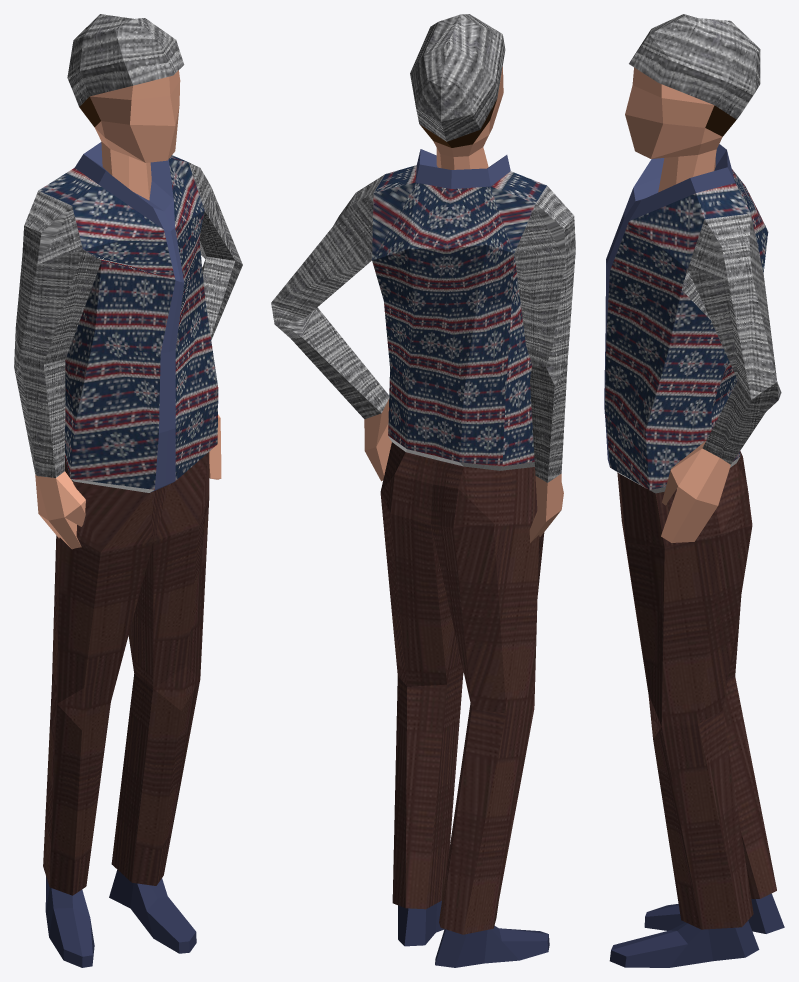
File: AutumnManB.010.glb
The picture shows the model from 3 angles, left to right: view 1: azimuth 30°, elevation 25°; view 2: azimuth 150°, elevation 25°; view 3: azimuth 270°, elevation 25°; orthographic projection. The views are drawn at different scales.
Parts seen in each view (by area): view 1: AutumnManB.010; view 2: AutumnManB.010; view 3: AutumnManB.010.
Part boxes in pixels (bbox=[...]): AutumnManB.010: bbox=[14, 14, 242, 967]; AutumnManB.010: bbox=[271, 14, 575, 967]; AutumnManB.010: bbox=[604, 14, 784, 967].
Size of the model in its own units: 0.5176 by 1.8 by 0.3129.
1 material, 1 textured.
